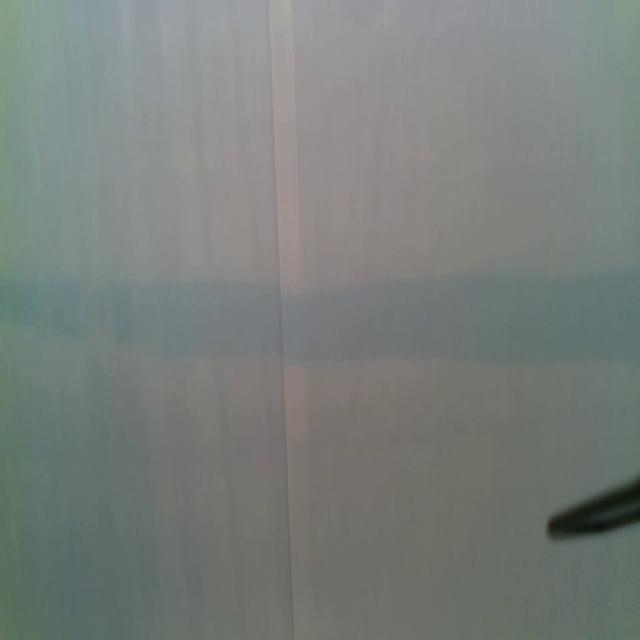color bleeding: (0, 272, 640, 365)
